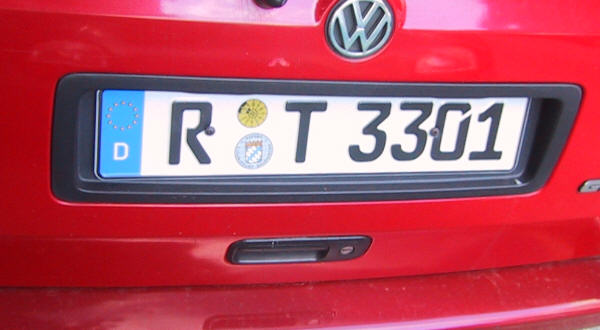license_plate: (94, 86, 532, 180)
